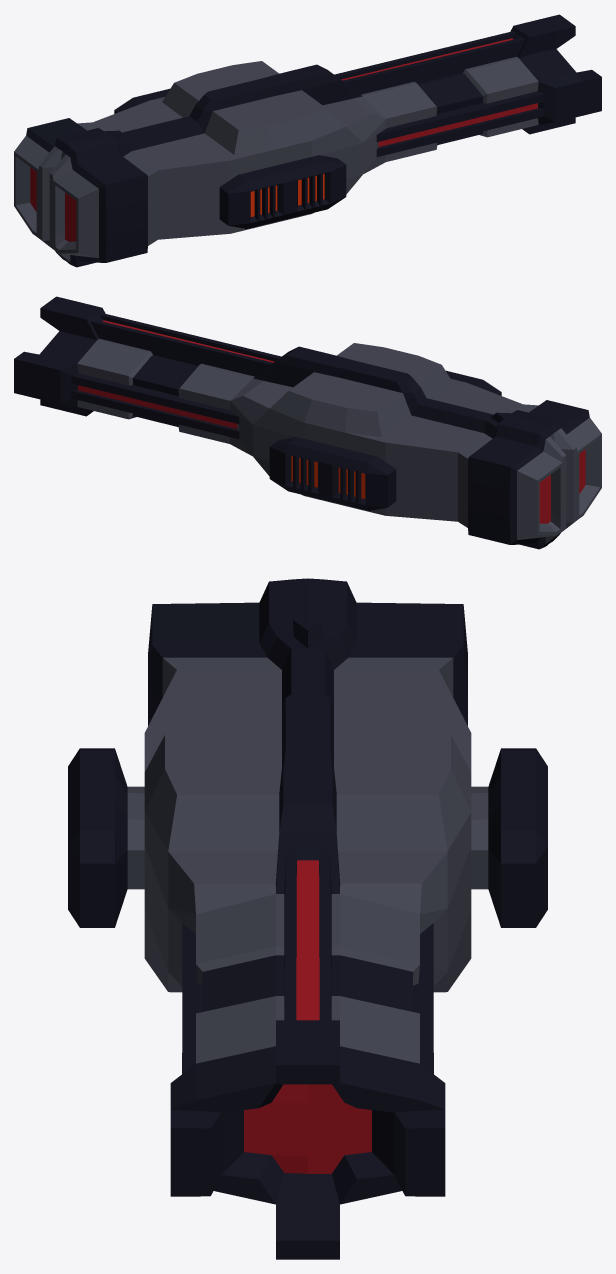
The model's file is Enemy_Ranged.fbx.
3 views of the same model, one above another, from view 1: azimuth 30°, elevation 25°; view 2: azimuth 150°, elevation 25°; view 3: azimuth 270°, elevation 25° (orthographic). The views are drawn at different scales.
Visible parts, largest first — view 1: Enemy_Shooter; view 2: Enemy_Shooter; view 3: Enemy_Shooter.
Boxes of the visible parts, left/top/right/bottom form: Enemy_Shooter: left=14, top=14, right=601, bottom=267; Enemy_Shooter: left=14, top=296, right=601, bottom=549; Enemy_Shooter: left=68, top=578, right=547, bottom=1259.
Size of the model in its own units: 4.7 by 1.12 by 1.87.
